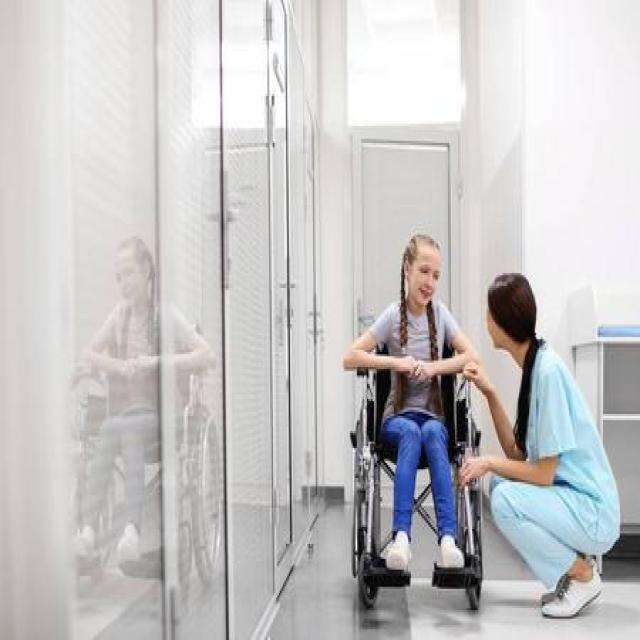wheelchairs: (344, 328, 492, 615), (77, 318, 228, 599)
